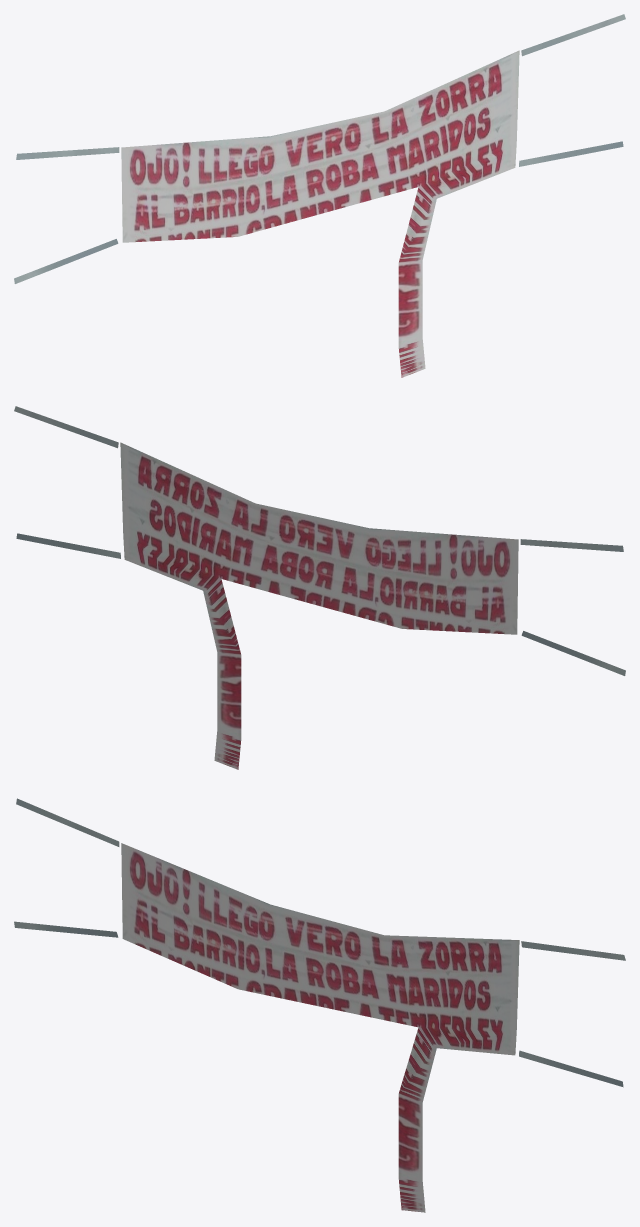
The model's file is Pasacalle.glb.
3 views of the same model, one above another, from view 1: azimuth 30°, elevation 25°; view 2: azimuth 150°, elevation 25°; view 3: azimuth 330°, elevation 25° (orthographic).
Visible parts, largest first — view 1: Plane; view 2: Plane; view 3: Plane.
Part boxes in pixels (bbox=[...]): Plane: bbox=[14, 14, 625, 377]; Plane: bbox=[14, 406, 625, 769]; Plane: bbox=[14, 798, 625, 1212].
Bounding box in the file's own units: 3.07 × 1.53 × 2.68e-07.
1 material, 1 textured.
